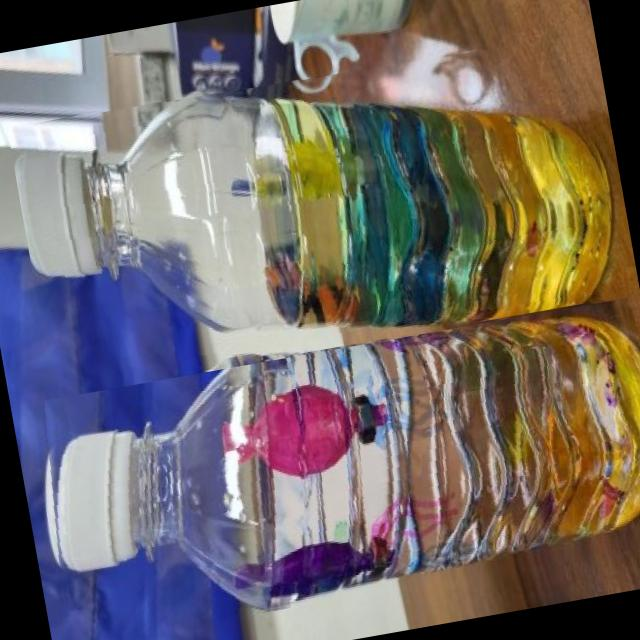plastic bottle: (6, 24, 628, 396), (23, 296, 640, 640)
